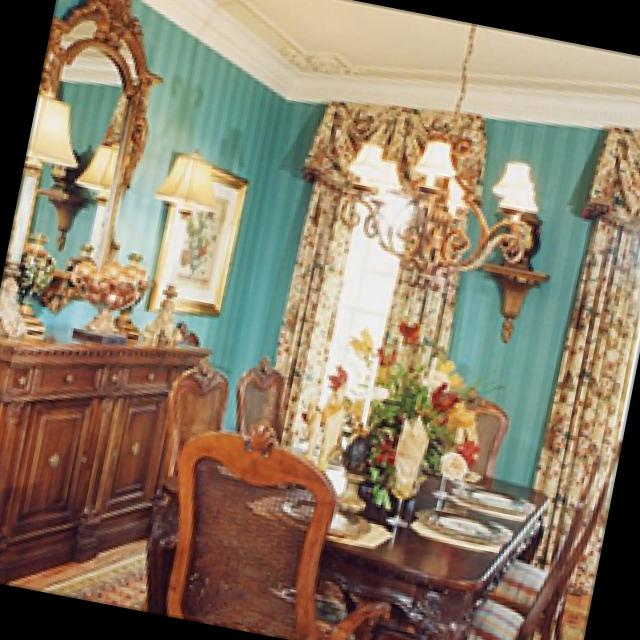2001: (288, 111, 478, 419), (544, 138, 640, 521)
bouquet: (336, 327, 491, 512), (20, 227, 61, 341)
buffet: (0, 335, 213, 583)
ceiling beam: (215, 0, 640, 97)
ceiling lamps: (339, 25, 545, 289)
chair: (170, 362, 232, 477), (240, 357, 289, 434)
chair -occluded-: (170, 424, 392, 640), (469, 460, 607, 640), (497, 475, 612, 640)
chair seat: (461, 404, 511, 474)
curtain crop: (277, 102, 487, 434), (534, 125, 640, 590)
fruit plate: (76, 257, 153, 342)
glass ceiling: (389, 456, 427, 529)
lamp crop: (0, 93, 83, 340), (148, 149, 225, 340), (421, 138, 459, 185)
mirror crop: (11, 0, 164, 313)
napkin ring: (400, 411, 438, 482)
painting crop: (149, 152, 253, 315)
place mat: (249, 489, 395, 549)
plate food: (420, 506, 516, 545), (282, 497, 373, 537), (456, 481, 538, 520)
shelf crop: (483, 259, 556, 341)
table -X: (163, 437, 555, 640)
